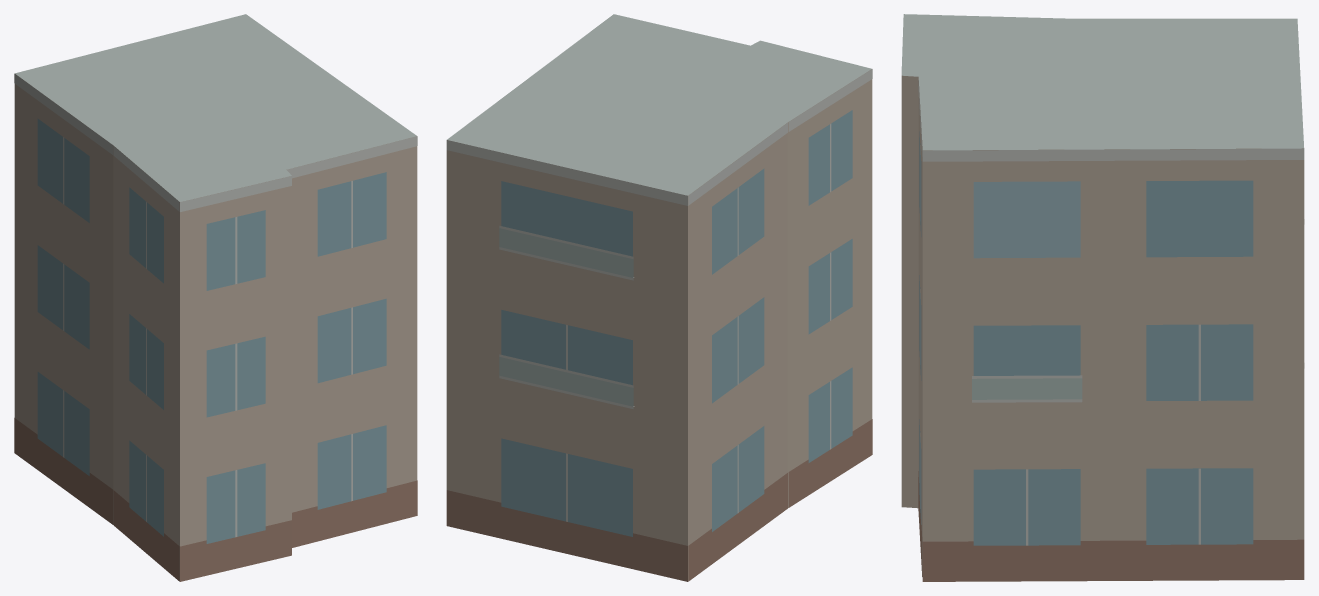
File: survey-upis-32510333.glb
The picture shows the model from 3 angles, left to right: view 1: azimuth 30°, elevation 25°; view 2: azimuth 150°, elevation 25°; view 3: azimuth 270°, elevation 25°; orthographic projection. The views are drawn at different scales.
Parts seen in each view (by area): view 1: survey-upis-32510333.tmp; view 2: survey-upis-32510333.tmp; view 3: survey-upis-32510333.tmp.
Boxes of the visible parts, x1,y1,x2,y2 form: survey-upis-32510333.tmp: (14,14,417,581); survey-upis-32510333.tmp: (446,14,872,581); survey-upis-32510333.tmp: (901,14,1304,581).
Bounding box in the file's own units: 6.27 × 9.2 × 7.8.
